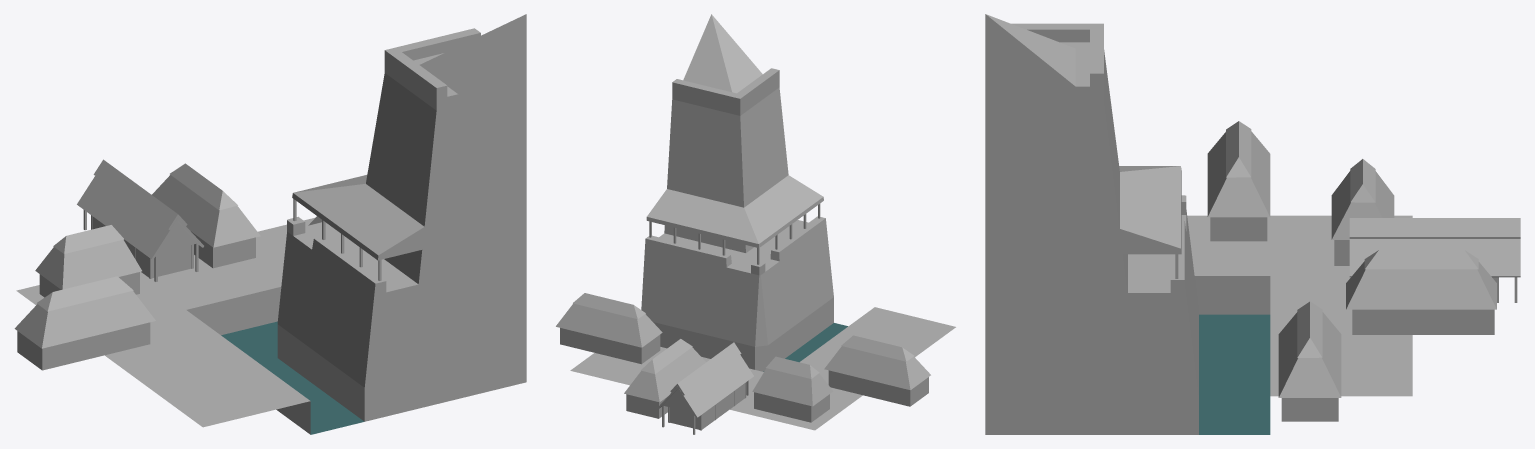
3 renders of one model, left to right at view 1: azimuth 30°, elevation 25°; view 2: azimuth 150°, elevation 25°; view 3: azimuth 270°, elevation 25°, orthographic. The views are drawn at different scales.
Visible parts, largest first — view 1: 11cr; view 2: 11cr; view 3: 11cr.
Part boxes in pixels (left/top/right/bottom): 11cr: left=14, top=14, right=526, bottom=434; 11cr: left=556, top=14, right=955, bottom=434; 11cr: left=985, top=14, right=1520, bottom=434.
Size of the model in its own units: 40.59 by 32.63 by 37.58.
